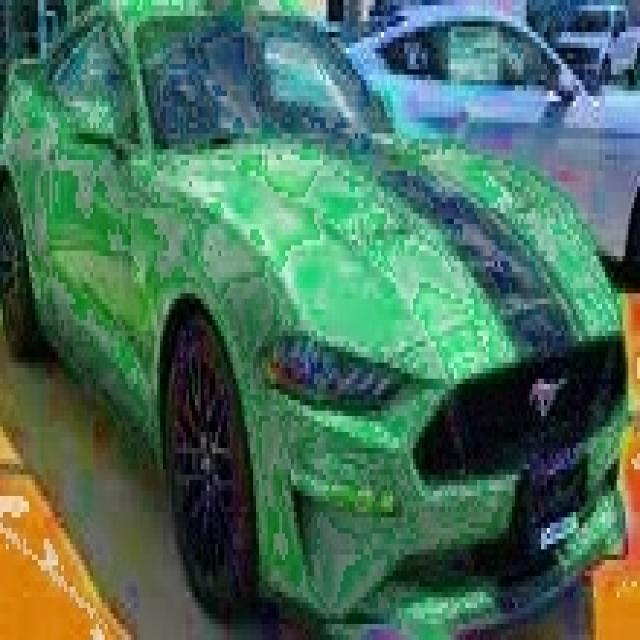green: (0, 0, 628, 640)
white: (387, 8, 640, 147)
